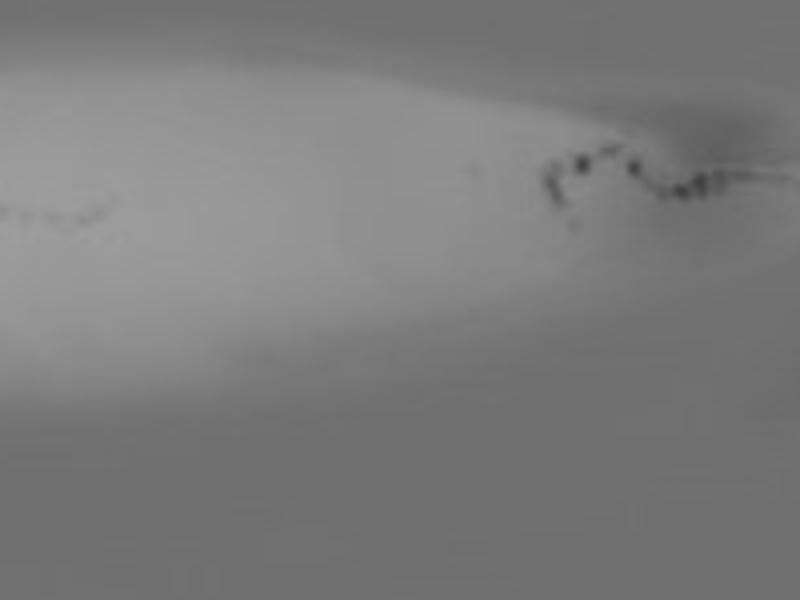defect: (540, 163, 566, 207), (691, 171, 710, 202), (713, 170, 730, 198), (573, 155, 592, 176), (671, 183, 690, 203), (561, 216, 581, 232), (600, 142, 620, 158), (650, 182, 666, 202), (87, 206, 104, 224), (624, 159, 641, 177), (73, 213, 87, 228), (1, 200, 11, 221)
